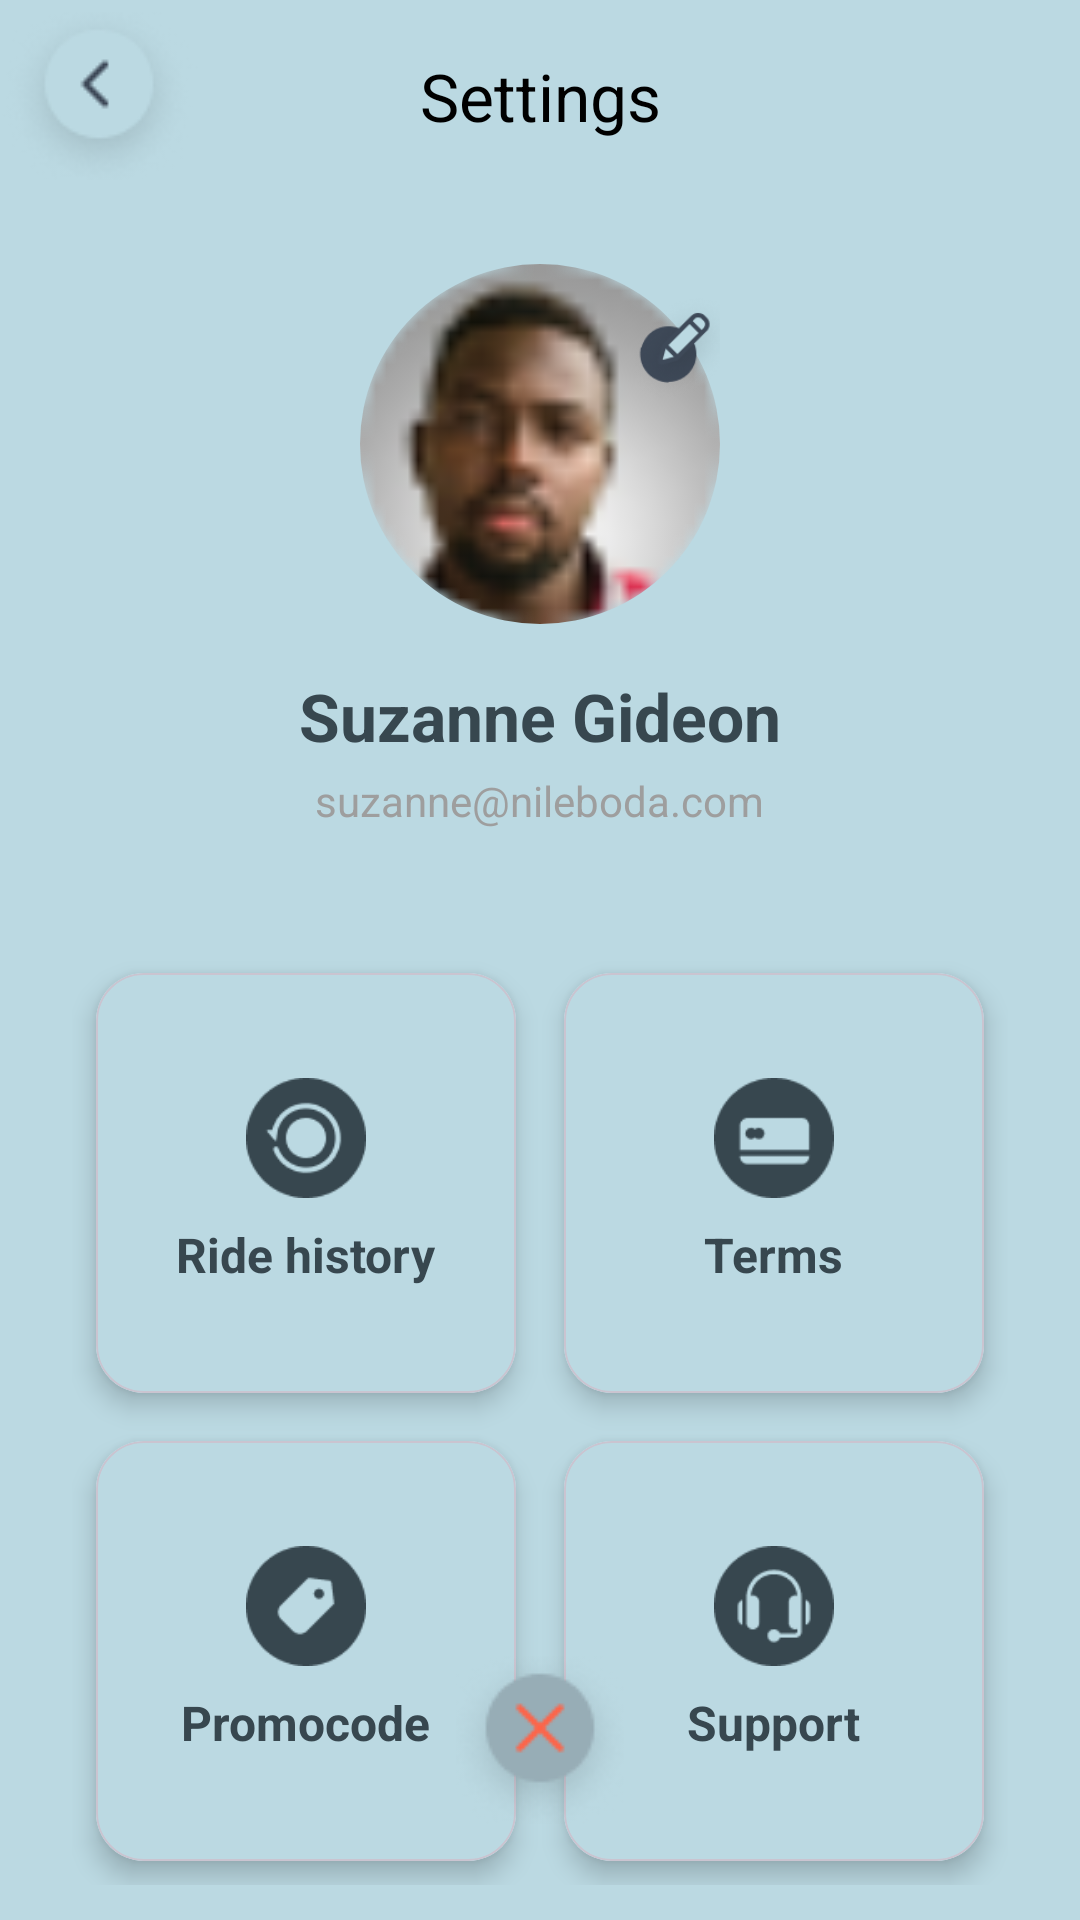

Locate icon controls on the screen. Image size 1080*1920, boxes as (x1, y1, x2, y2).
Close: (486, 1671, 594, 1811)
user driver: (360, 264, 720, 624)
